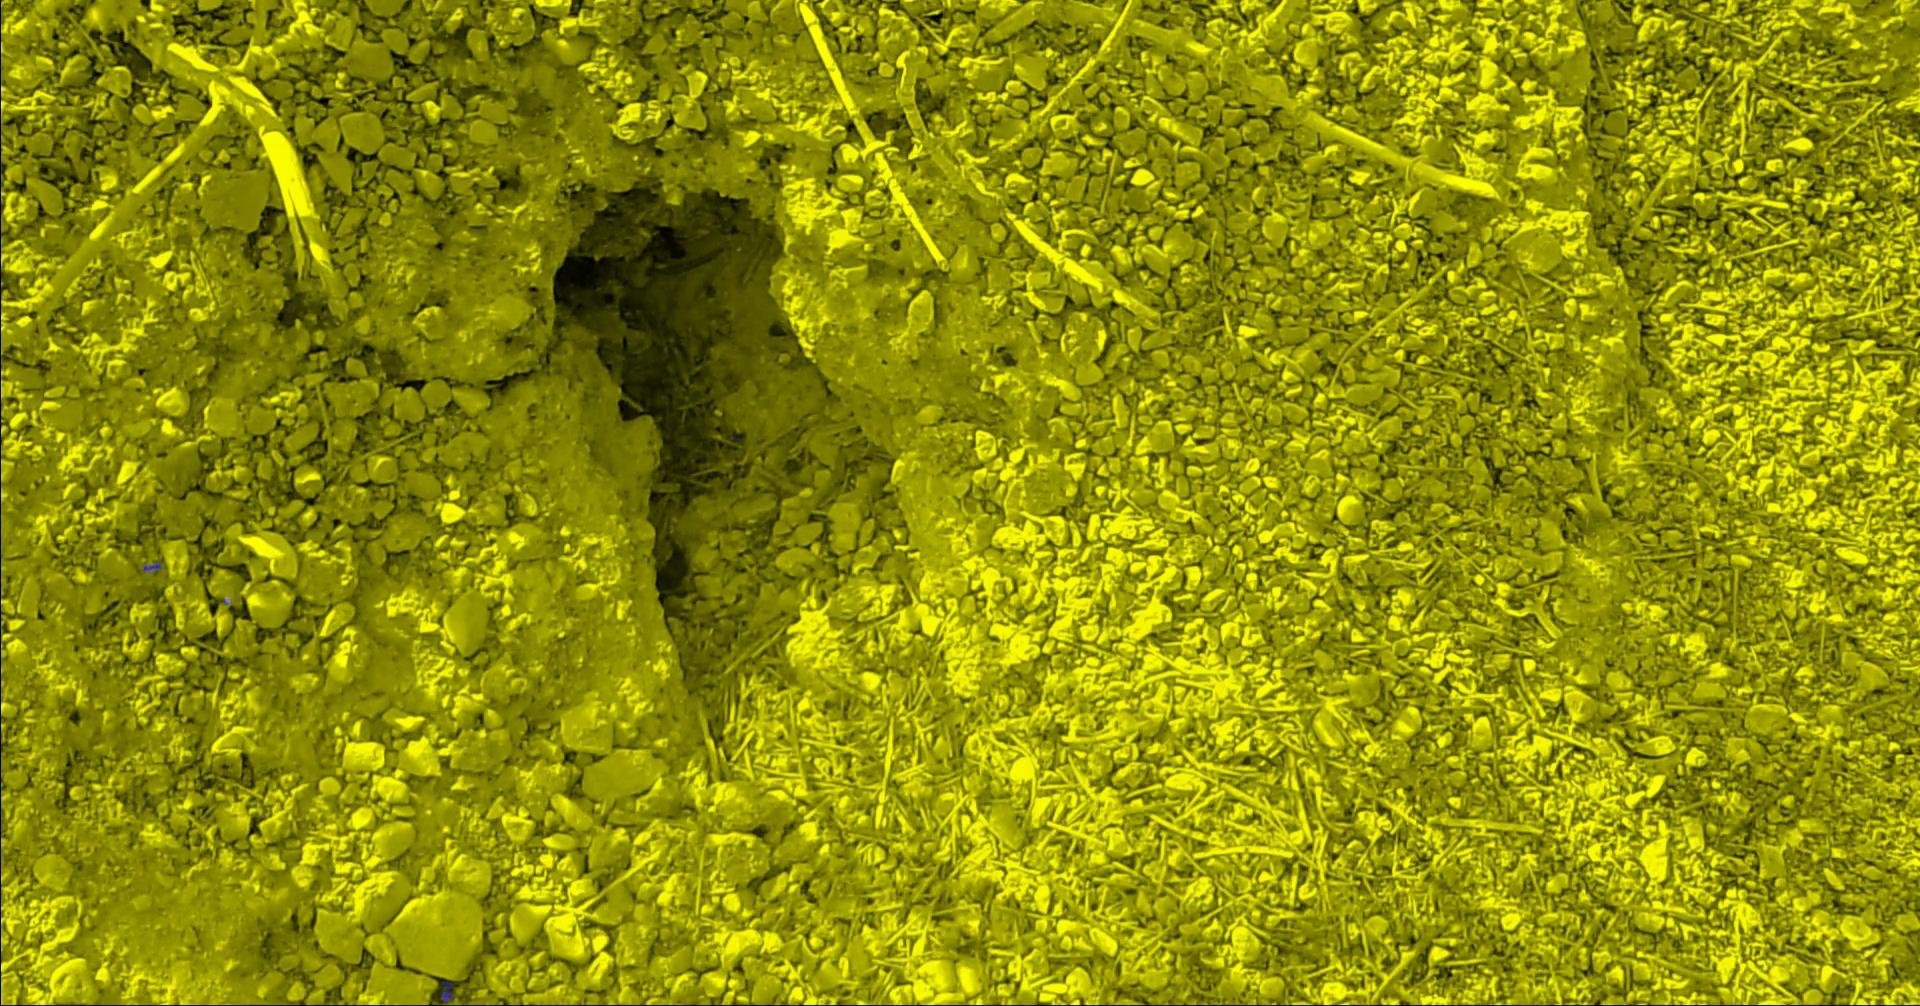ant: (439, 981, 453, 1005), (141, 561, 163, 572)
